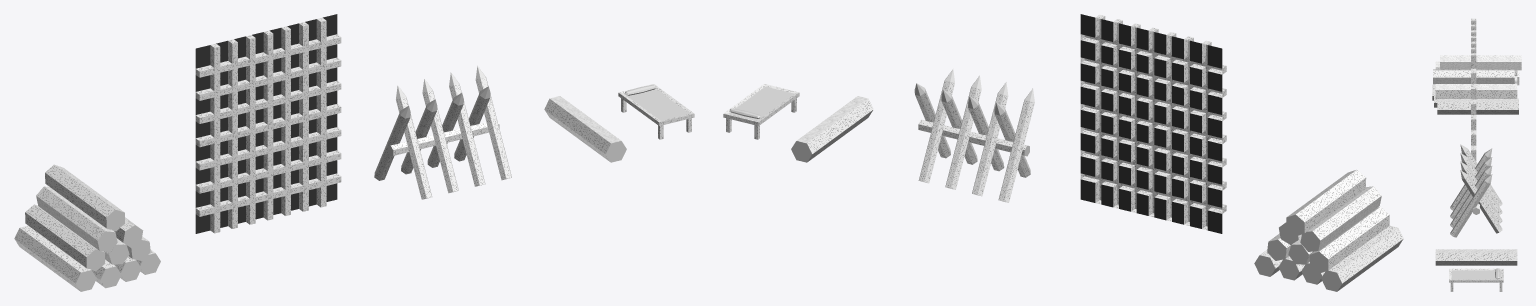
The model's file is mod_details_special.fbx.
3 views of the same model, side by side, from view 1: azimuth 30°, elevation 25°; view 2: azimuth 150°, elevation 25°; view 3: azimuth 270°, elevation 25° (orthographic). The views are drawn at different scales.
Parts seen in each view (by area): view 1: gate, log_pile_thick, barricade, log, bed_hospital; view 2: gate, log_pile_thick, barricade, log, bed_hospital; view 3: log_pile_thick, barricade, log, bed_hospital, gate.
Part boxes in pixels (bbox=[...]): gate: bbox=[195, 14, 341, 233]; log_pile_thick: bbox=[14, 164, 160, 291]; barricade: bbox=[374, 65, 511, 199]; log: bbox=[544, 96, 626, 162]; bed_hospital: bbox=[618, 84, 694, 139]; gate: bbox=[1080, 14, 1226, 233]; log_pile_thick: bbox=[1254, 169, 1403, 291]; barricade: bbox=[914, 69, 1034, 202]; log: bbox=[791, 96, 873, 162]; bed_hospital: bbox=[723, 84, 799, 139]; log_pile_thick: bbox=[1432, 55, 1521, 114]; barricade: bbox=[1450, 144, 1502, 237]; log: bbox=[1435, 249, 1517, 265]; bed_hospital: bbox=[1449, 268, 1503, 291]; gate: bbox=[1471, 18, 1476, 161].
Size of the model in its own units: 17.75 by 5.17 by 3.28.
